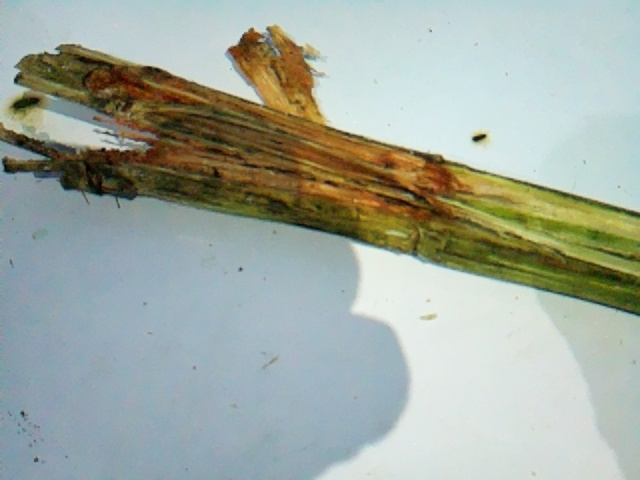Red-Rot: (0, 27, 636, 314)
